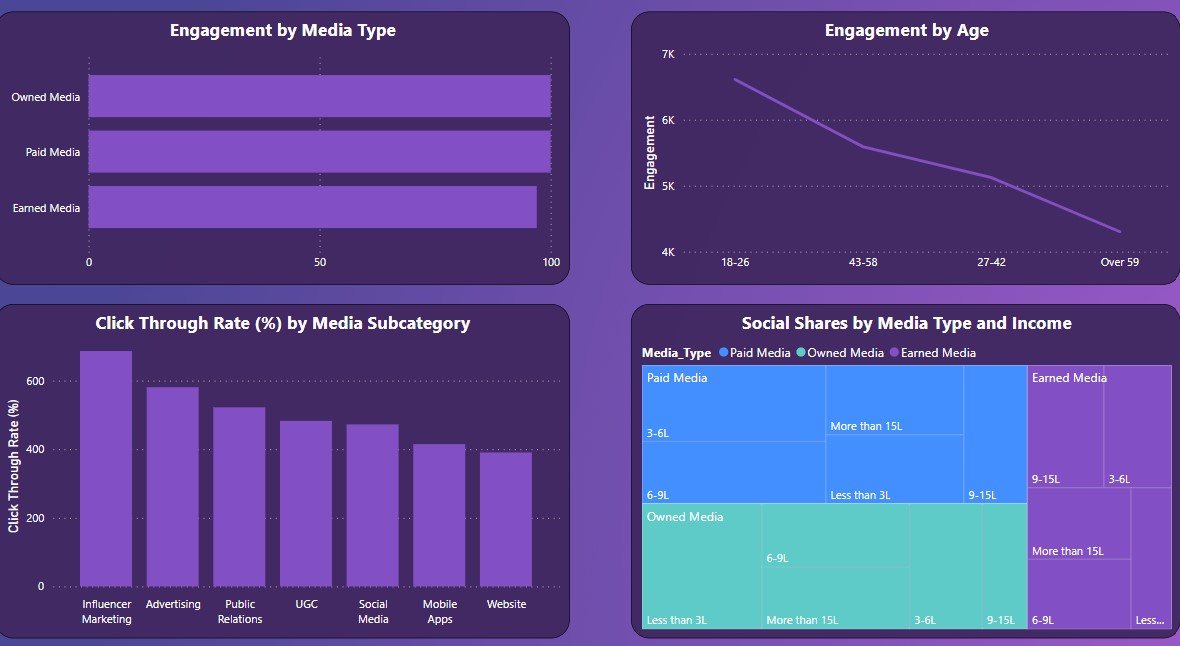

The page's visual inventory and layout, read from the dashboard file:
{"tool":"powerbi","page":{"name":"Customer Behavior Insights","canvas":[1280,720],"ordinal":2},"visuals":[{"type":"clusteredBarChart","title":"Engagement by Media Type","fields":{"Series":["customer_data_powerbi_446.Media_Type"],"Y":["CountNonNull(customer_data_powerbi_446.Customer_ID)"],"Category":["customer_data_powerbi_446.Engagement_Category"]},"box":[3.8,24.6,791.8,294.8],"z":0},{"type":"scatterChart","title":"Engagement by Purchase Intent","fields":{"Series":["customer_data_powerbi_446.Engagement_Category"],"X":["Sum(customer_data_powerbi_446.Engagement_Score (1-100))"],"Y":["Sum(customer_data_powerbi_446.Purchase_Intent (%))"]},"box":[795.6,24.6,483.8,294.8],"z":2000},{"type":"treemap","title":"Social Shares by Media Type and Age Group","fields":{"Group":["customer_data_powerbi_446.Media_Type","customer_data_powerbi_446.Subcategory"],"Values":["Sum(customer_data_powerbi_446.Social_Shares)"],"Details":["customer_data_powerbi_446.Age_Group"]},"box":[669,340.2,610.4,379.8],"z":3000},{"type":"clusteredColumnChart","fields":{"Y":["Sum(customer_data_powerbi_446.Click_Through_Rate (%))"],"Category":["customer_data_powerbi_446.Subcategory"]},"box":[0,359.1,669,360.9],"z":3001}]}

Visuals, with their boxes in screenshot pixels (x1, y1, x2, y2), scaled from the page's 1280x720 canvas onto the 1180x646 screenshot:
"Engagement by Media Type" clusteredBarChart: (left=4, top=22, right=733, bottom=287)
"Engagement by Purchase Intent" scatterChart: (left=733, top=22, right=1179, bottom=287)
"Social Shares by Media Type and Age Group" treemap: (left=617, top=305, right=1179, bottom=645)
clusteredColumnChart - Sum(customer_data_powerbi_446.Click_Through_Rate (%)) x customer_data_powerbi_446.Subcategory: (left=0, top=322, right=617, bottom=645)
